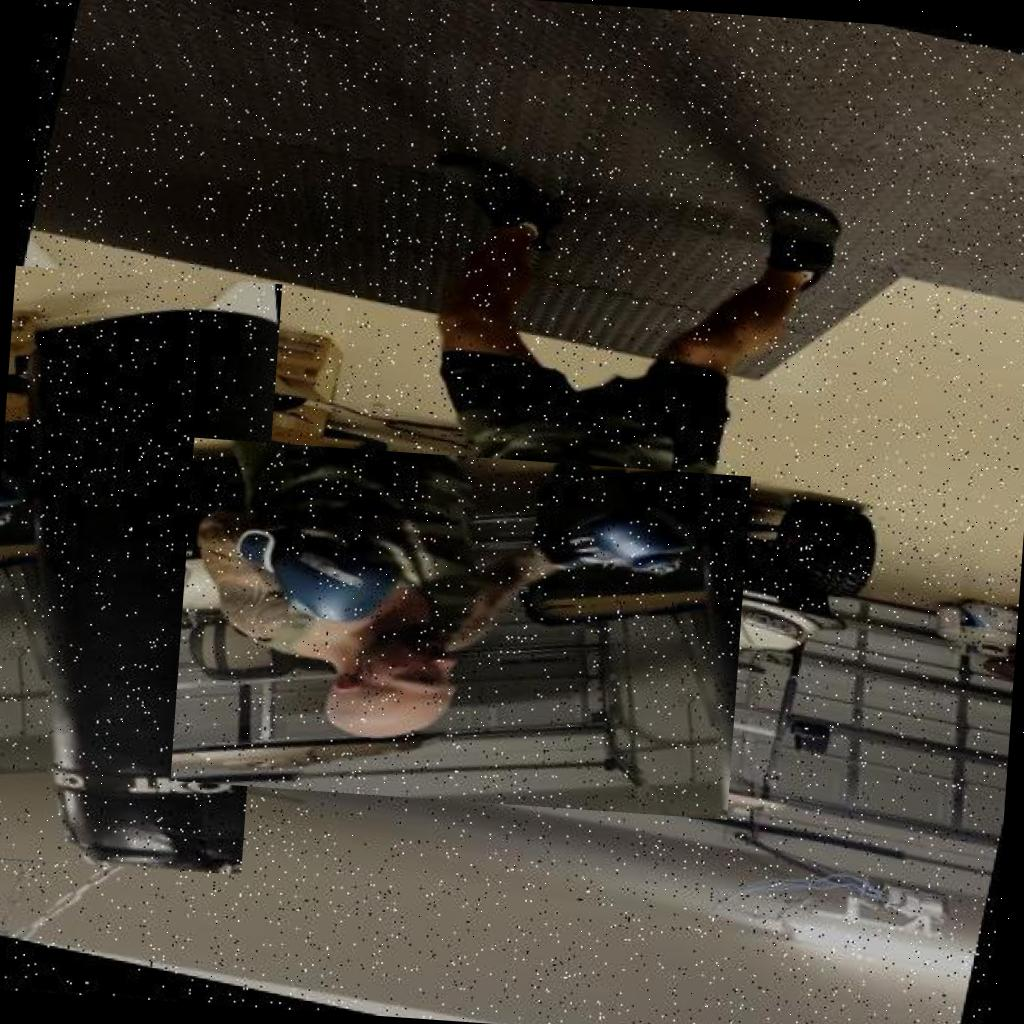bag: (0, 266, 282, 875)
hook: (170, 438, 751, 820)
